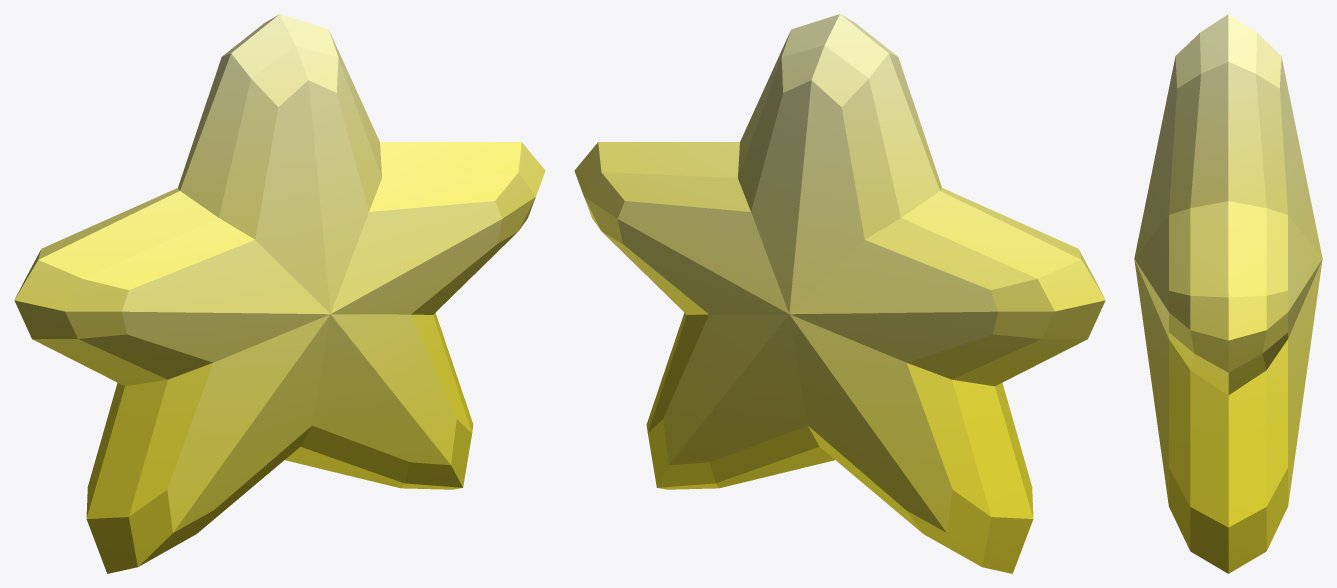
The model's file is Star.fbx.
3 views of the same model, side by side, from view 1: azimuth 30°, elevation 25°; view 2: azimuth 150°, elevation 25°; view 3: azimuth 270°, elevation 25° (orthographic). The views are drawn at different scales.
Visible parts, largest first — view 1: Star; view 2: Star; view 3: Star.
Part boxes in pixels (x1=…): Star: x1=14, y1=14, x2=545, y2=573; Star: x1=574, y1=14, x2=1105, y2=573; Star: x1=1134, y1=14, x2=1322, y2=573.
Bounding box in the file's own units: 47.09 × 43.86 × 15.55.
1 material, 1 textured.
